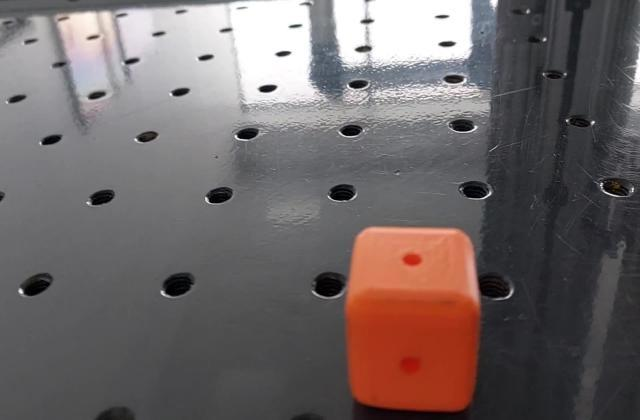cube: (340, 225, 483, 416)
